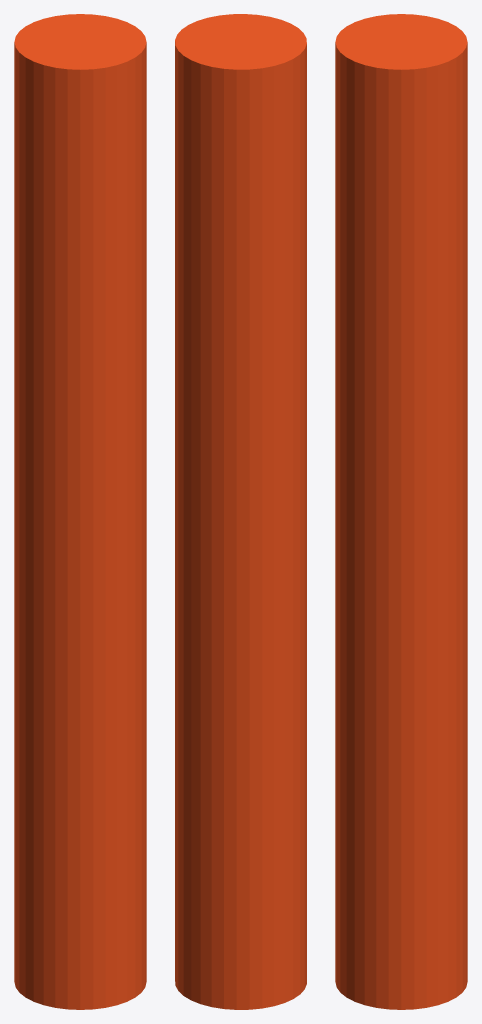
The model's file is fin_bar.fbx.
3 renders of one model, left to right at view 1: azimuth 90°, elevation 25°; view 2: azimuth 210°, elevation 25°; view 3: azimuth 270°, elevation 25°, orthographic.
Parts seen in each view (by area): view 1: fin_bar; view 2: fin_bar; view 3: fin_bar.
Boxes of the visible parts, <box> form: fin_bar: <box>14,14,146,1009</box>; fin_bar: <box>175,14,306,1009</box>; fin_bar: <box>335,14,467,1009</box>.
Size of the model in its own units: 2.02 by 2.02 by 15.86.
